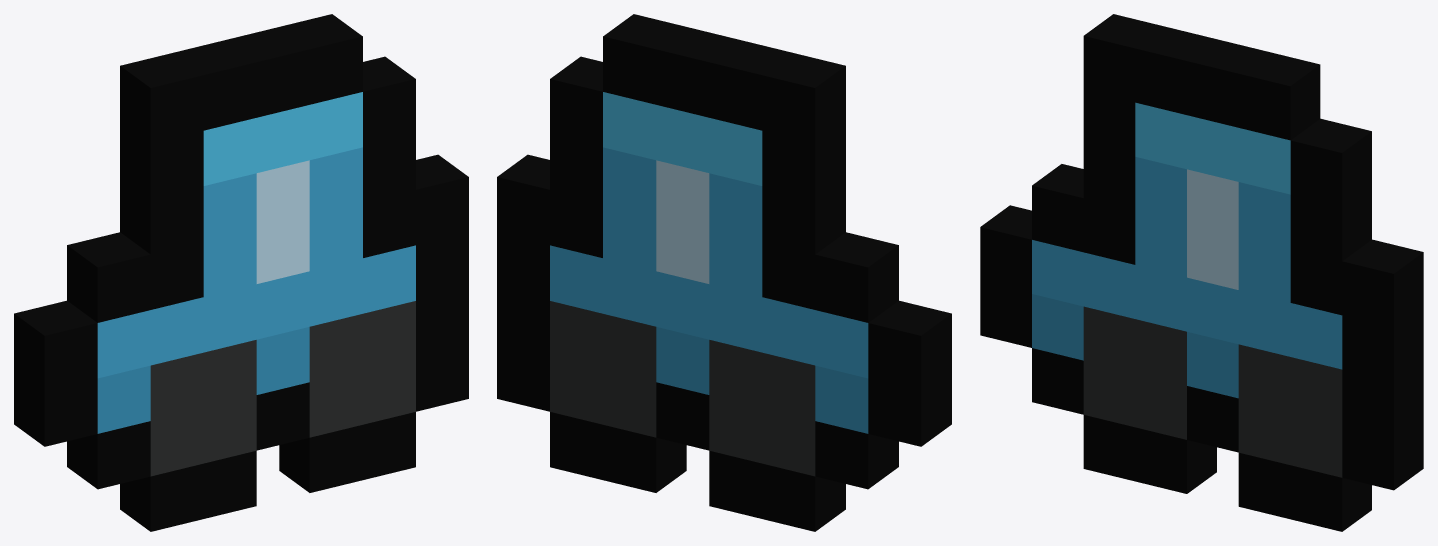
Rendered from Car Item.glb.
The picture shows the model from 3 angles, left to right: view 1: azimuth 30°, elevation 25°; view 2: azimuth 150°, elevation 25°; view 3: azimuth 330°, elevation 25°; orthographic projection. The views are drawn at different scales.
Visible parts, largest first — view 1: generated(Clone); view 2: generated(Clone); view 3: generated(Clone).
Boxes of the visible parts, x1,y1,x2,y2 form: generated(Clone): (14, 14, 468, 531); generated(Clone): (497, 14, 951, 531); generated(Clone): (980, 14, 1423, 531).
Bounding box in the file's own units: 8 × 8 × 1.
Materials: 1 (1 with a texture image).
